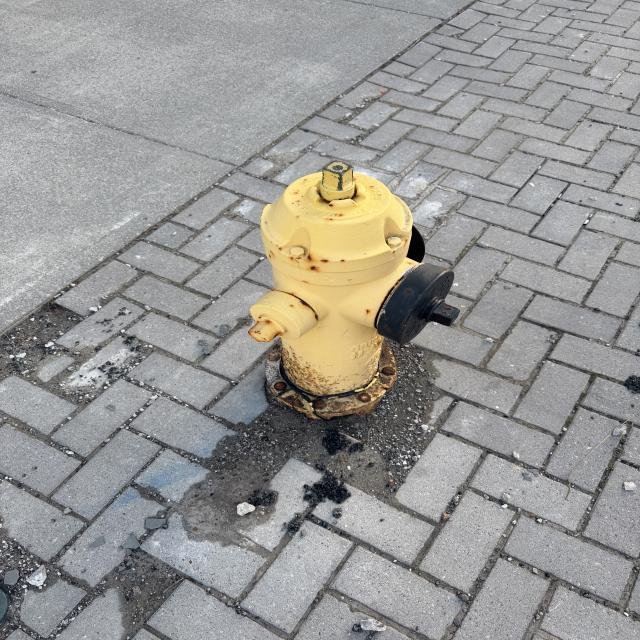Fire hydrant: (247, 160, 461, 421)
